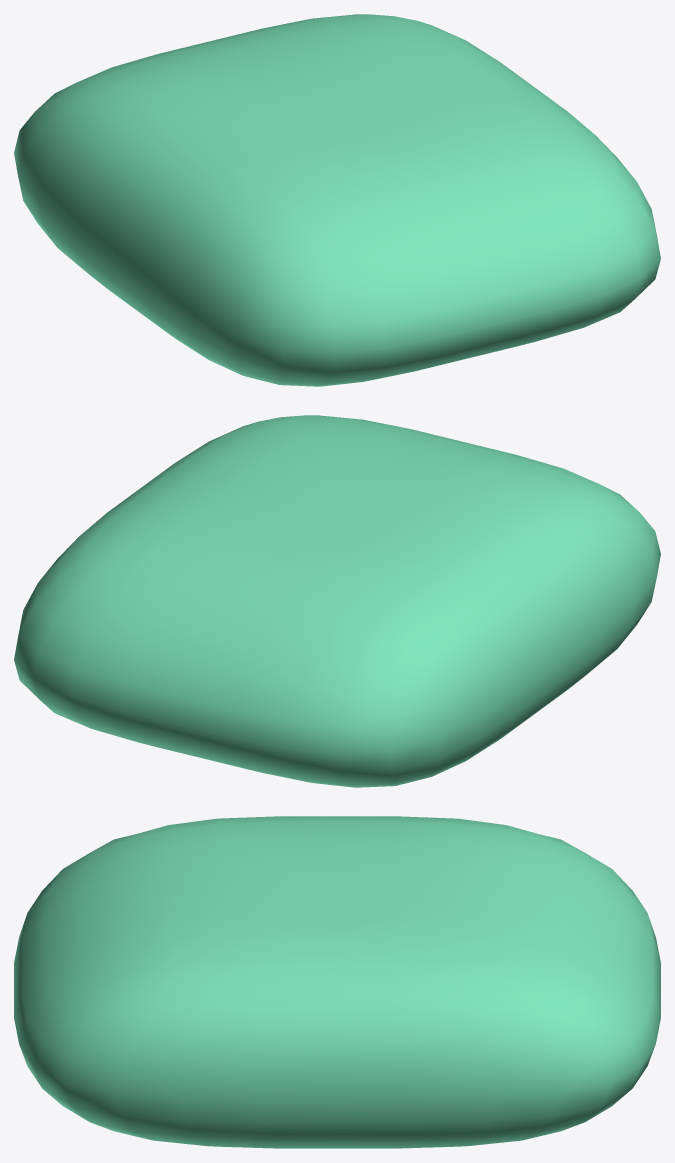
The model's file is Cushion.fbx.
3 views of the same model, one above another, from view 1: azimuth 30°, elevation 25°; view 2: azimuth 150°, elevation 25°; view 3: azimuth 270°, elevation 25° (orthographic).
Visible parts, largest first — view 1: pCube5; view 2: pCube5; view 3: pCube5.
Boxes of the visible parts, bbox=[...] form: pCube5: bbox=[14, 14, 660, 386]; pCube5: bbox=[14, 415, 660, 787]; pCube5: bbox=[14, 816, 660, 1148].
Bounding box in the file's own units: 5.69 × 2.25 × 7.06.
